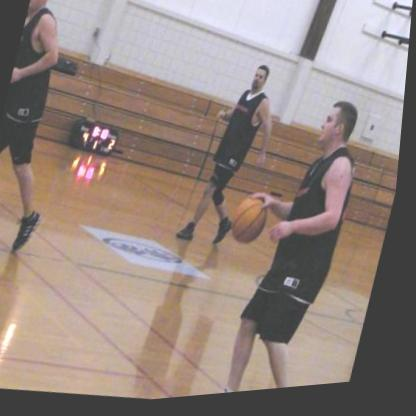basketball: (231, 198, 275, 250)
